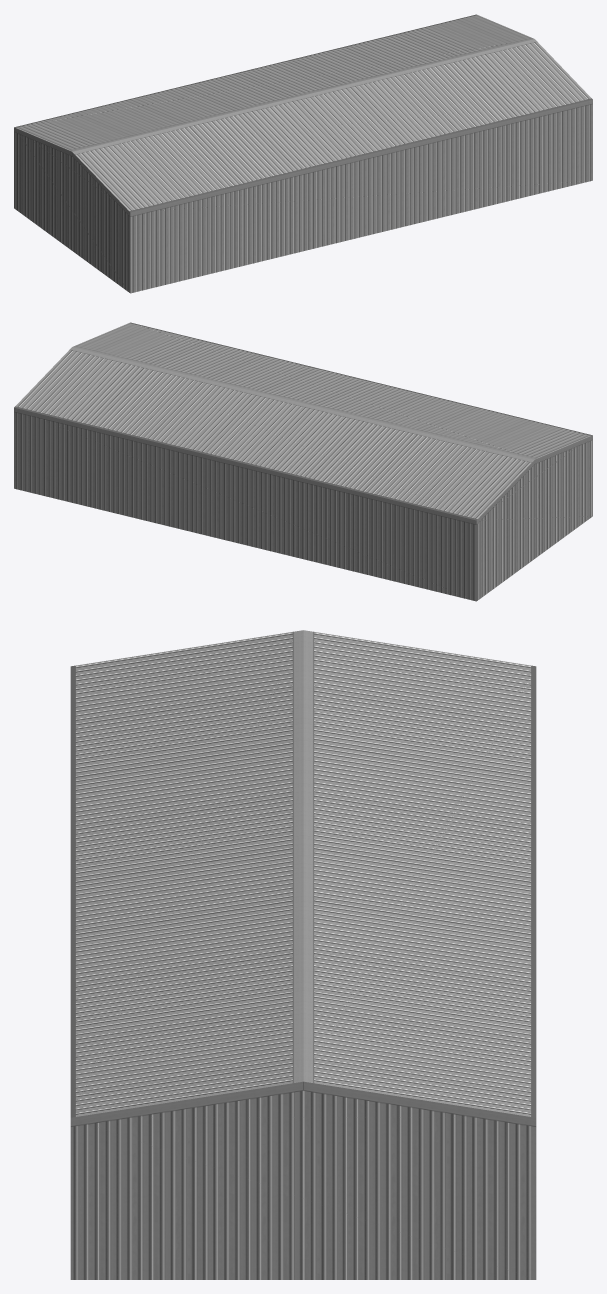
The model's file is hangar-side-door-26x11x4-grey-cbj_LOD01.gltf.
3 renders of one model, top to bottom at view 1: azimuth 30°, elevation 25°; view 2: azimuth 150°, elevation 25°; view 3: azimuth 270°, elevation 25°, orthographic. The views are drawn at different scales.
Parts seen in each view (by area): view 1: hangar-side-d01; view 2: hangar-side-d01; view 3: hangar-side-d01.
Part boxes in pixels (left/top/right/bottom): hangar-side-d01: left=14, top=14, right=592, bottom=293; hangar-side-d01: left=14, top=322, right=592, bottom=601; hangar-side-d01: left=70, top=630, right=536, bottom=1279.
Size of the model in its own units: 25.7 by 5.26 by 11.2.
